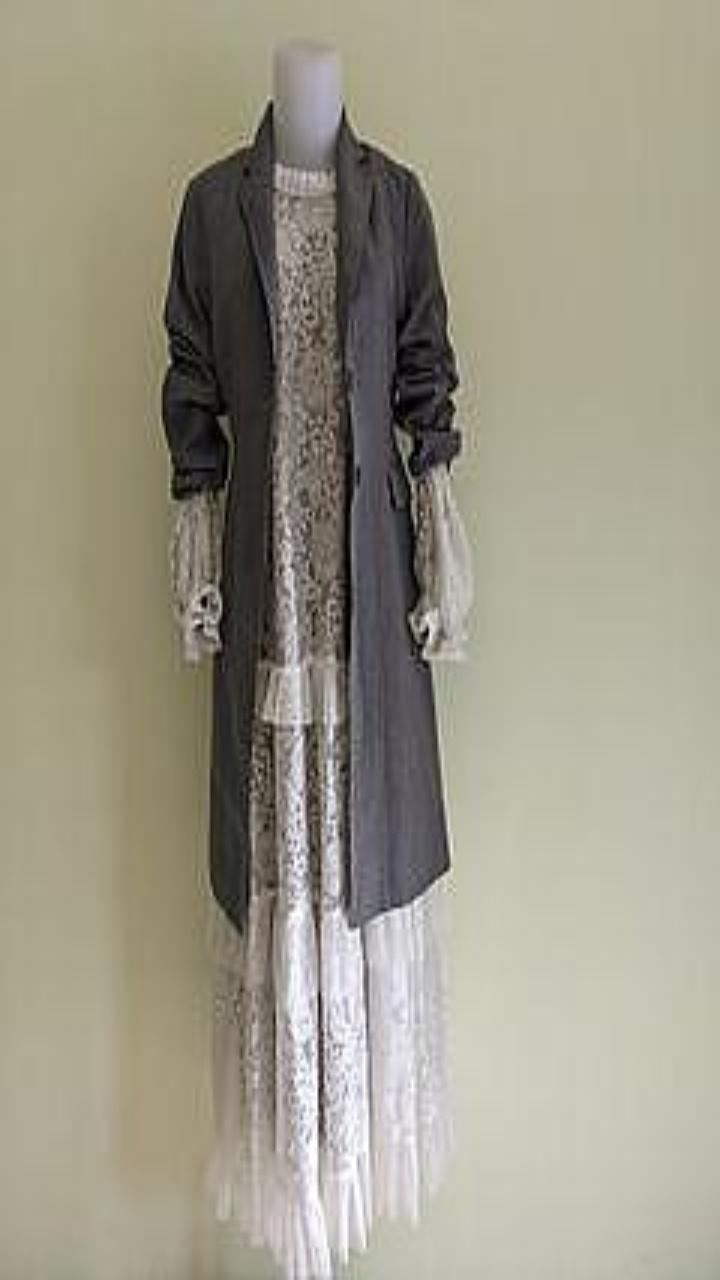Coat: (162, 100, 277, 928)
Dresses: (208, 162, 451, 1279)
